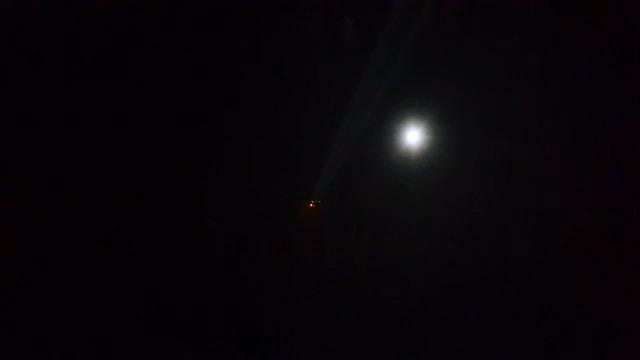Plane: (304, 189, 328, 214)
